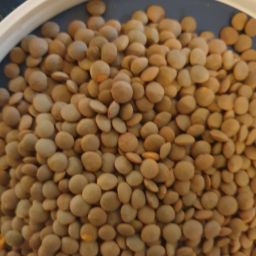Black Lentil(masoor daal): (5, 10, 256, 256), (161, 54, 252, 256), (34, 84, 156, 210)
